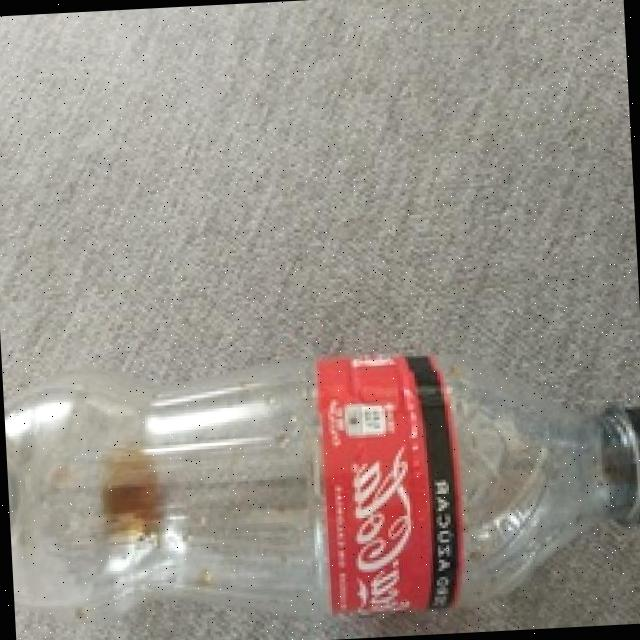bottle: (2, 332, 640, 640)
label: (302, 347, 457, 632)
